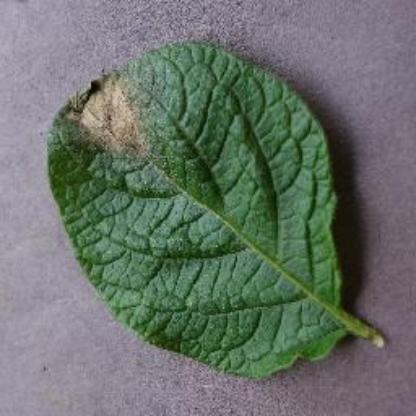Late-Blight: (35, 30, 366, 374)
